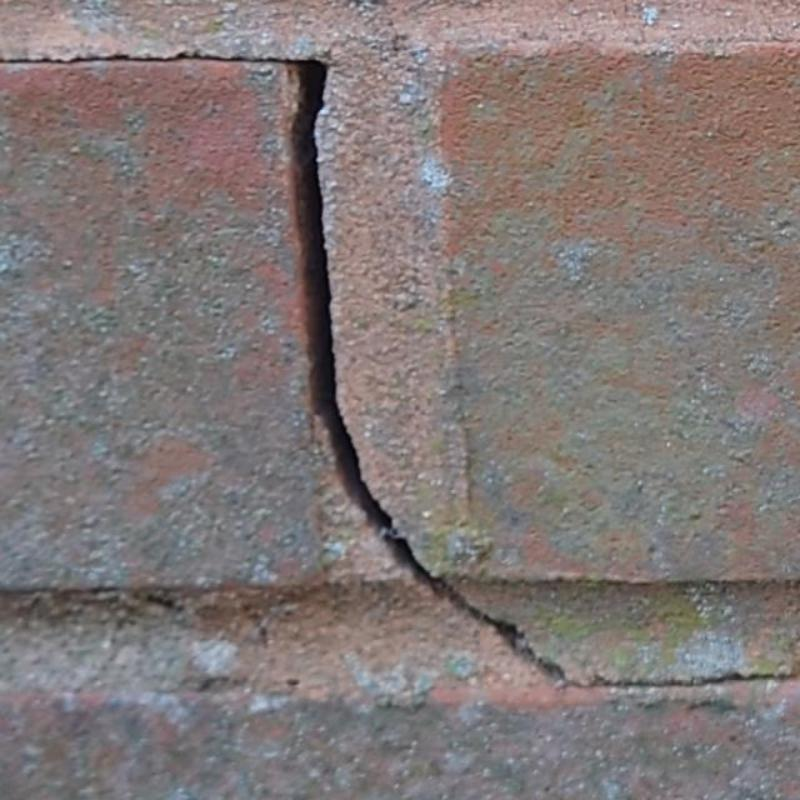pothole: (0, 52, 799, 692)
